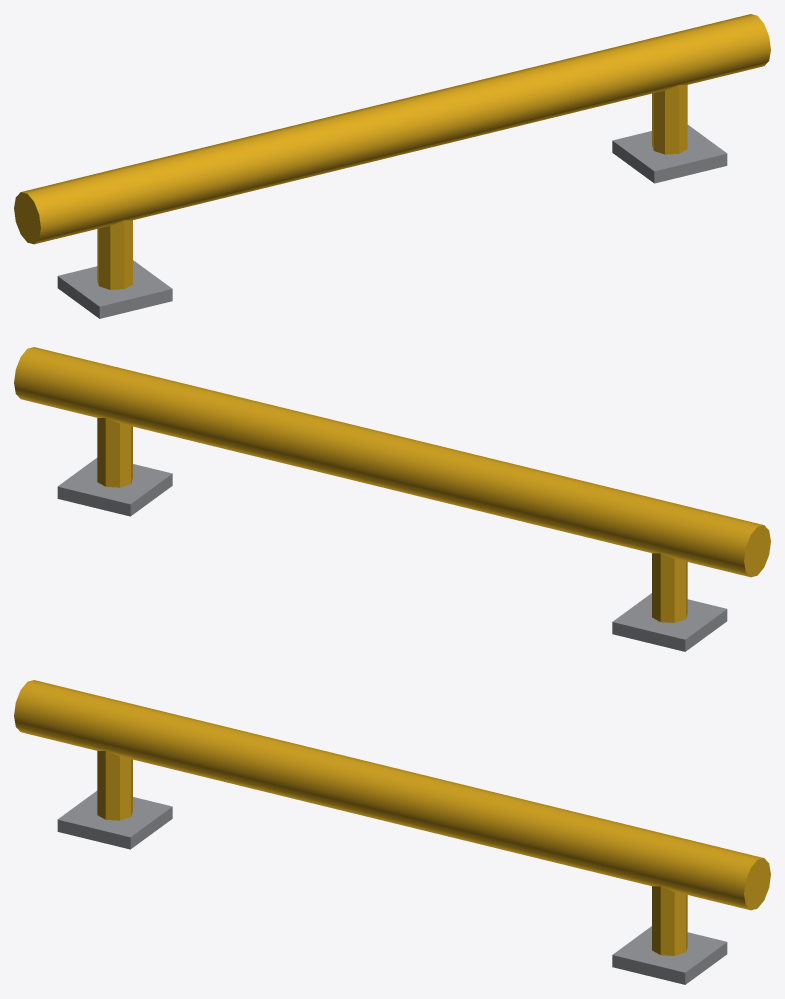
Rendered from SM_Baranda_050.fbx.
3 renders of one model, top to bottom at view 1: azimuth 30°, elevation 25°; view 2: azimuth 150°, elevation 25°; view 3: azimuth 330°, elevation 25°, orthographic.
Parts seen in each view (by area): view 1: SM_Baranda_050; view 2: SM_Baranda_050; view 3: SM_Baranda_050.
Boxes of the visible parts, x1,y1,x2,y2 form: SM_Baranda_050: [14, 14, 770, 318]; SM_Baranda_050: [14, 347, 770, 651]; SM_Baranda_050: [14, 680, 770, 984].
Bounding box in the file's own units: 0.5 × 0.08 × 0.05.
